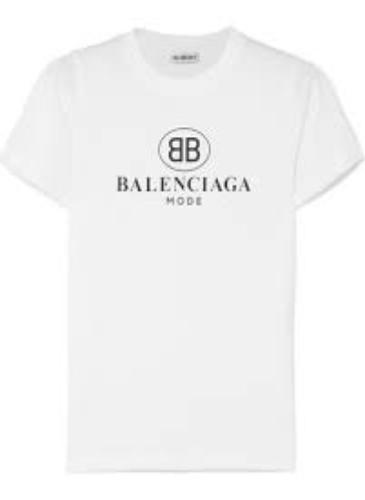BALENCIAGA: (116, 173, 252, 195), (168, 133, 203, 163)
